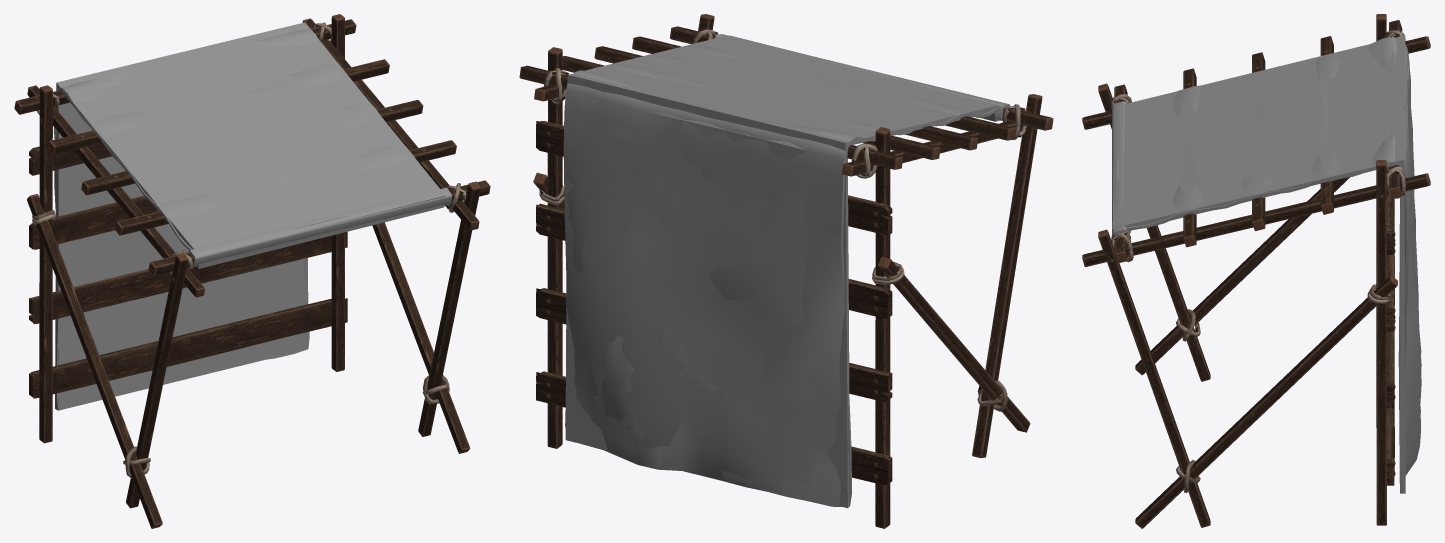
The model's file is MarketStall03.glb.
The picture shows the model from 3 angles, left to right: view 1: azimuth 30°, elevation 25°; view 2: azimuth 150°, elevation 25°; view 3: azimuth 270°, elevation 25°; orthographic projection. The views are drawn at different scales.
Visible parts, largest first — view 1: MarketStall03_Cloth, MarketStall03_Frame; view 2: MarketStall03_Cloth, MarketStall03_Frame; view 3: MarketStall03_Cloth, MarketStall03_Frame.
Boxes of the visible parts, x1,y1,x2,y2 form: MarketStall03_Cloth: (54, 22, 451, 410); MarketStall03_Frame: (14, 14, 490, 528); MarketStall03_Cloth: (563, 34, 1010, 508); MarketStall03_Frame: (519, 14, 1053, 528); MarketStall03_Cloth: (1112, 35, 1421, 493); MarketStall03_Frame: (1082, 14, 1430, 528).
Bounding box in the file's own units: 3.31 × 3.34 × 2.9.
4 materials, 3 textured.
